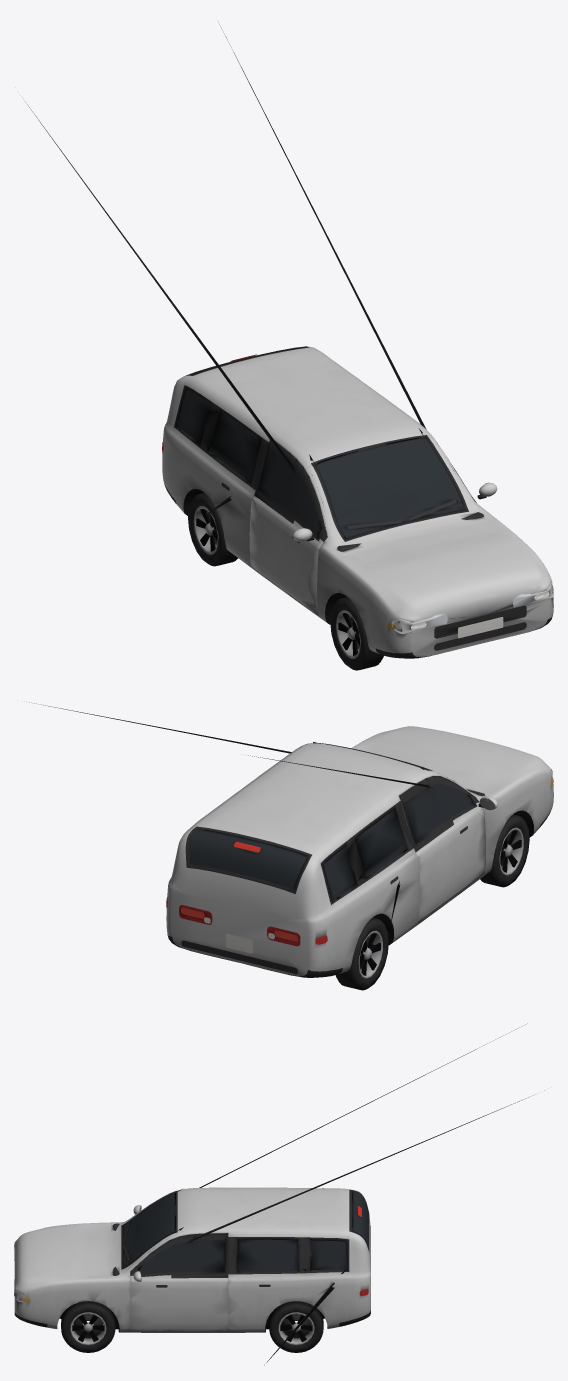
Rendered from car-suv-v2.glb.
3 renders of one model, top to bottom at view 1: azimuth 30°, elevation 25°; view 2: azimuth 150°, elevation 25°; view 3: azimuth 270°, elevation 25°, orthographic. The views are drawn at different scales.
Visible parts, largest first — view 1: body, door_R, wheel_FR, wheel_RR; view 2: body, door_R, wheel_RR, wheel_FR; view 3: body, door_L, wheel_FL, wheel_RL.
Boxes of the visible parts, x1=… form: body: x1=22, y1=22, x2=553, y2=658; door_R: x1=249, y1=440, x2=327, y2=614; wheel_FR: x1=330, y1=597, x2=383, y2=670; wheel_RR: x1=188, y1=492, x2=237, y2=566; body: x1=29, y1=702, x2=553, y2=977; door_R: x1=399, y1=776, x2=497, y2=923; wheel_RR: x1=335, y1=917, x2=388, y2=990; wheel_FR: x1=480, y1=814, x2=529, y2=887; body: x1=14, y1=1023, x2=544, y2=1365; door_L: x1=130, y1=1233, x2=228, y2=1330; wheel_FL: x1=61, y1=1301, x2=115, y2=1352; wheel_RL: x1=269, y1=1301, x2=323, y2=1352.
Size of the model in its own units: 2.59 by 4.13 by 7.34.
